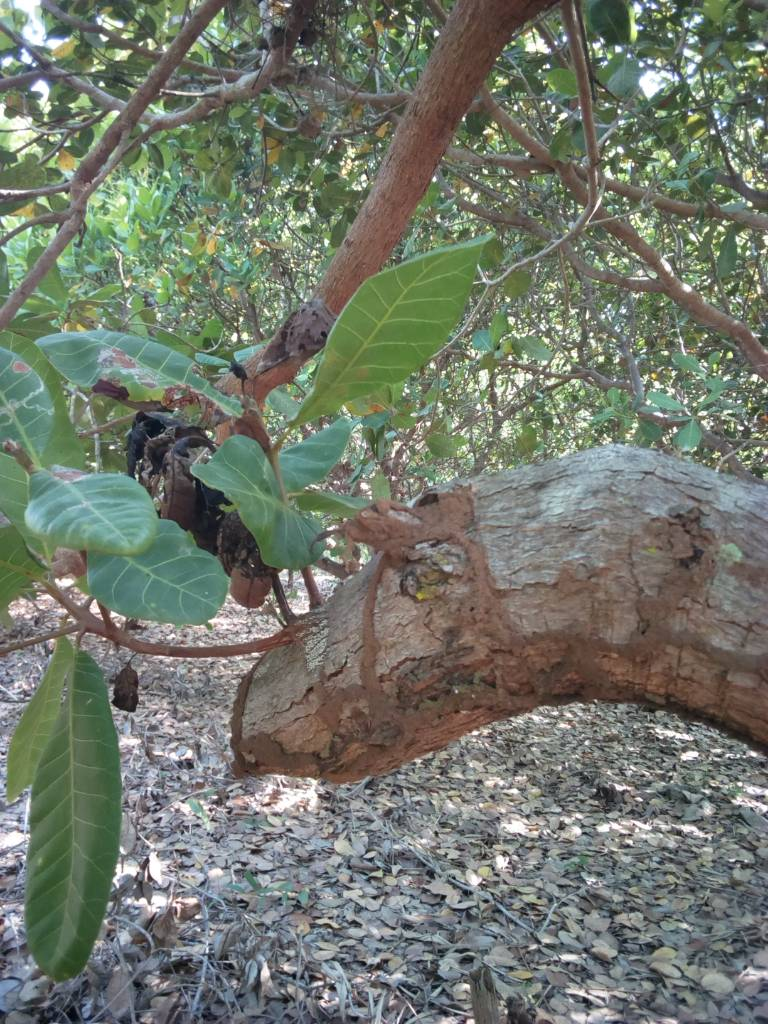Termites: (365, 494, 508, 750), (236, 653, 347, 780), (541, 617, 768, 672), (641, 511, 715, 607)
